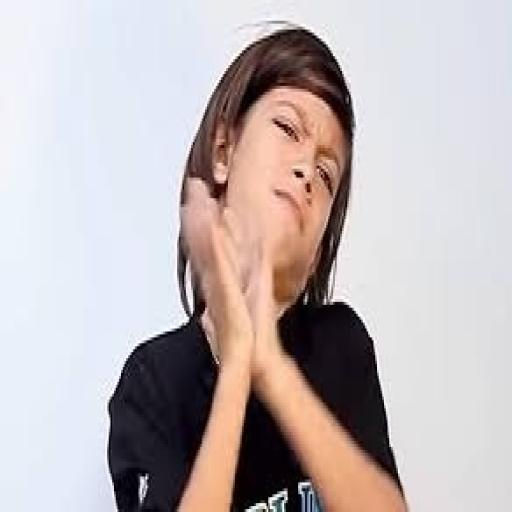clapping: (106, 21, 410, 509)
